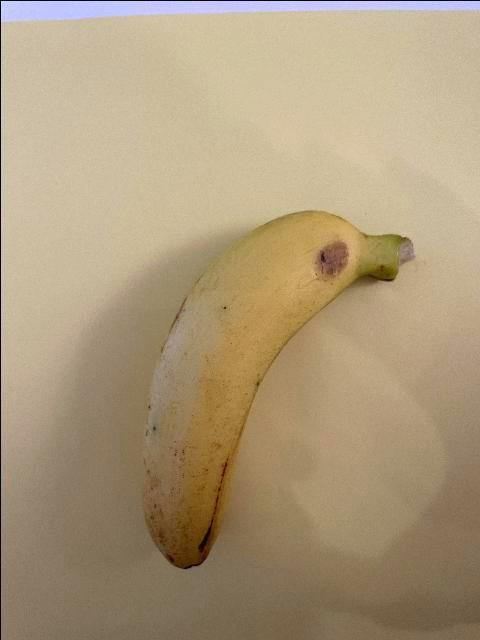banana: (142, 208, 416, 568)
